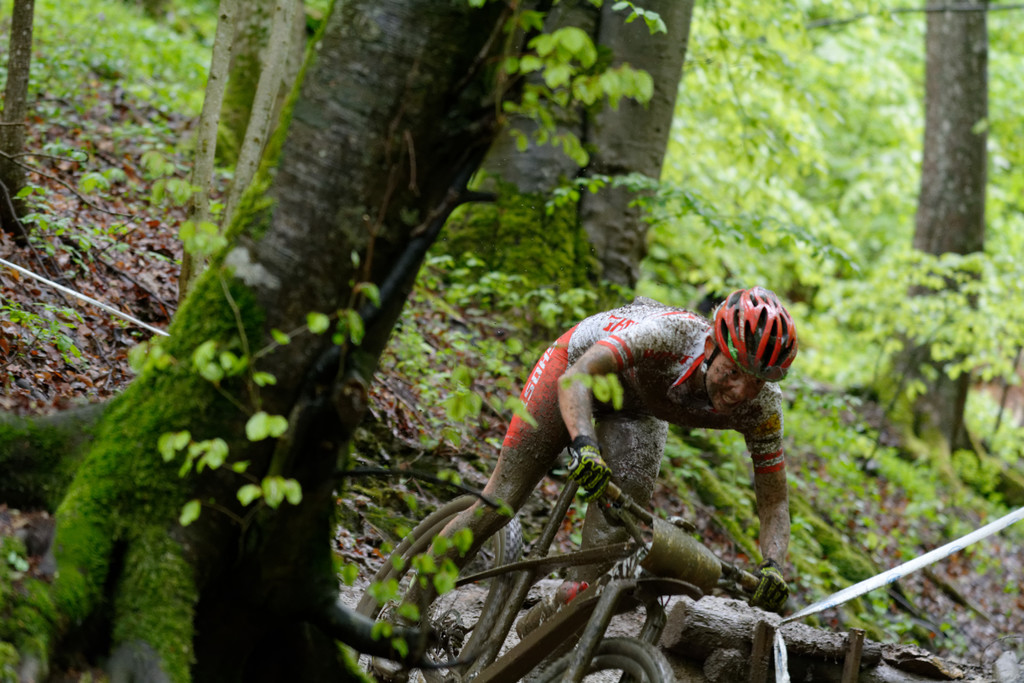Bike_toward: (368, 441, 797, 683)
